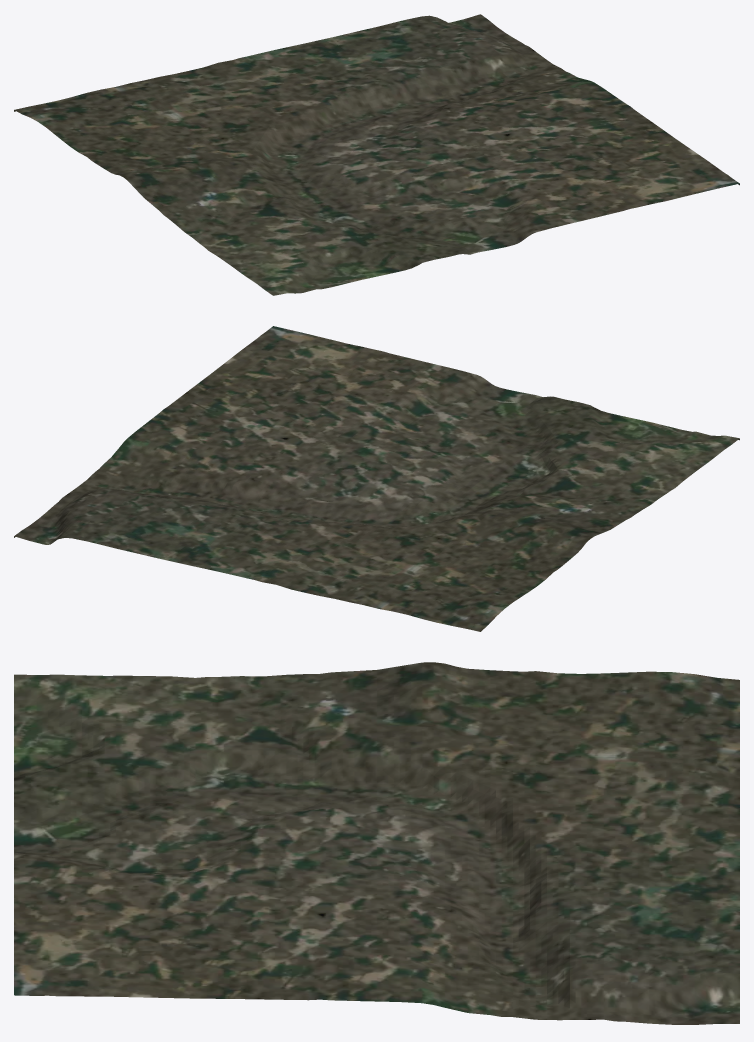
3 views of the same model, one above another, from view 1: azimuth 30°, elevation 25°; view 2: azimuth 150°, elevation 25°; view 3: azimuth 270°, elevation 25° (orthographic). The views are drawn at different scales.
Bounding box in the file's own units: 250 × 17.28 × 241.
1 material, 1 textured.
